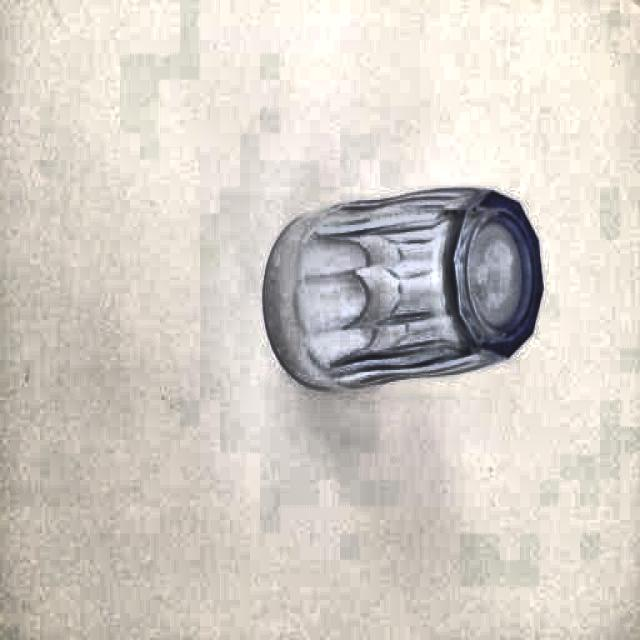glass: (258, 178, 546, 392)
